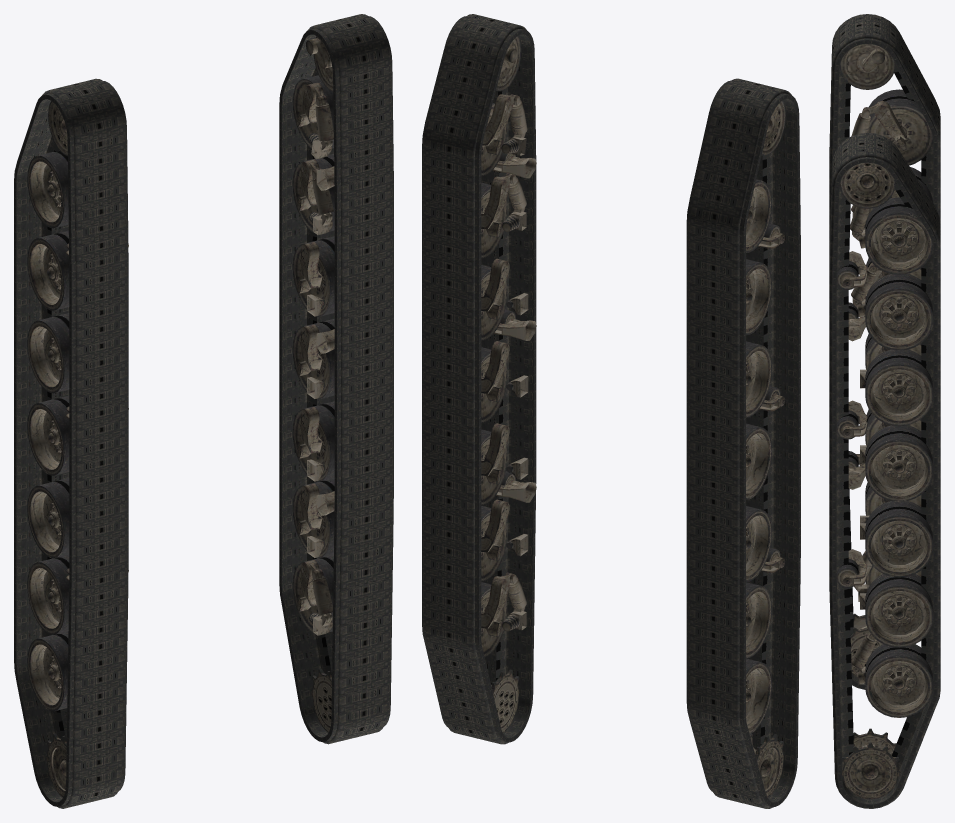
File: Chassis.glb
3 views of the same model, side by side, from view 1: azimuth 30°, elevation 25°; view 2: azimuth 150°, elevation 25°; view 3: azimuth 270°, elevation 25° (orthographic). The views are drawn at different scales.
Visible parts, largest first — view 1: set_1_group_0, set_0_group_0, set_2_group_0, set_3_group_0; view 2: set_0_group_0, set_1_group_0, set_3_group_0, set_2_group_0; view 3: set_3_group_0, set_1_group_0, set_2_group_0, set_0_group_0.
Part boxes in pixels (x1,y1,x2,y2): set_1_group_0: (279, 14, 393, 744); set_0_group_0: (14, 78, 128, 808); set_2_group_0: (27, 101, 128, 797); set_3_group_0: (292, 36, 334, 732); set_0_group_0: (686, 78, 800, 808); set_1_group_0: (422, 14, 536, 744); set_3_group_0: (481, 36, 536, 732); set_2_group_0: (746, 100, 785, 797); set_3_group_0: (836, 162, 933, 799); set_1_group_0: (829, 132, 940, 808); set_2_group_0: (839, 44, 933, 677); set_0_group_0: (829, 14, 940, 689).
Size of the model in its own units: 3.39 by 7.19 by 1.11.
Materials: 4 (4 with a texture image).
